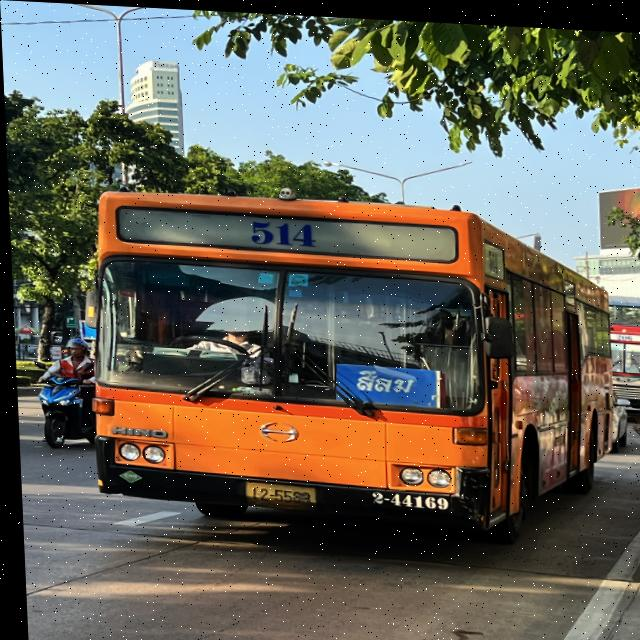BMTA-bus: (72, 170, 619, 540)
Bus-Line-Number: (231, 211, 329, 251)
Destination-Sign-Normal: (330, 360, 433, 401)
